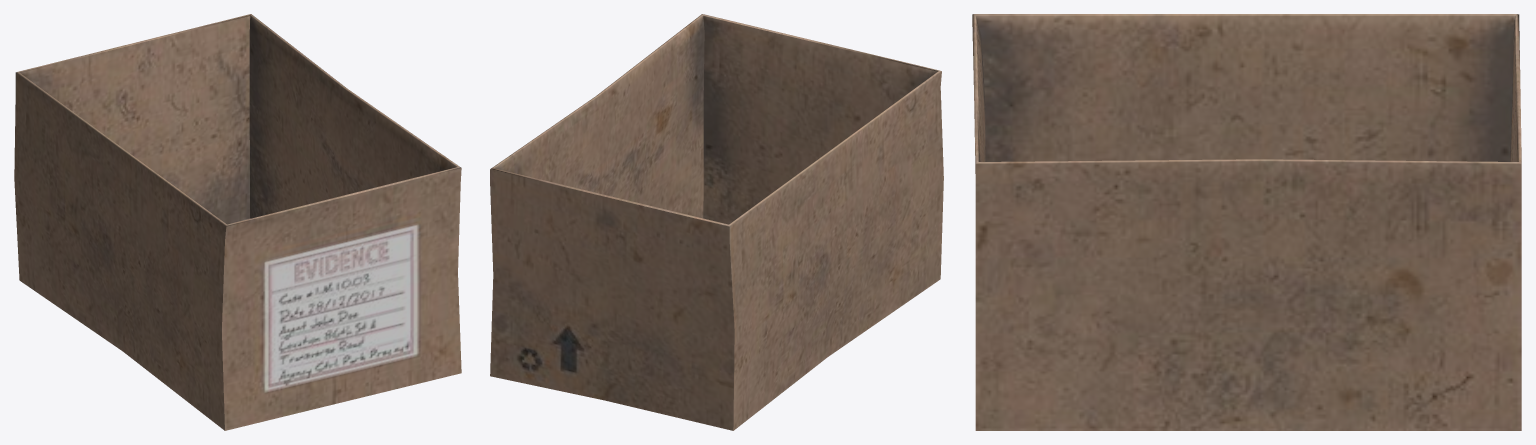
The model's file is SM_Cardboard_Evidence_Box.glb.
3 renders of one model, left to right at view 1: azimuth 30°, elevation 25°; view 2: azimuth 150°, elevation 25°; view 3: azimuth 270°, elevation 25°, orthographic. The views are drawn at different scales.
Visible parts, largest first — view 1: SM_Cardboard_Evidence_Box; view 2: SM_Cardboard_Evidence_Box; view 3: SM_Cardboard_Evidence_Box.
Part boxes in pixels (bbox=[...]): SM_Cardboard_Evidence_Box: bbox=[14, 14, 461, 430]; SM_Cardboard_Evidence_Box: bbox=[490, 14, 943, 430]; SM_Cardboard_Evidence_Box: bbox=[972, 14, 1521, 430].
Size of the model in its own units: 0.2935 by 0.2414 by 0.4486.
1 material, 1 textured.
